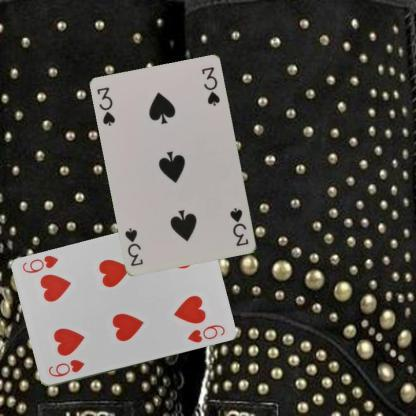3s: (227, 205, 250, 248), (94, 85, 116, 128)
6h: (46, 357, 86, 379)
